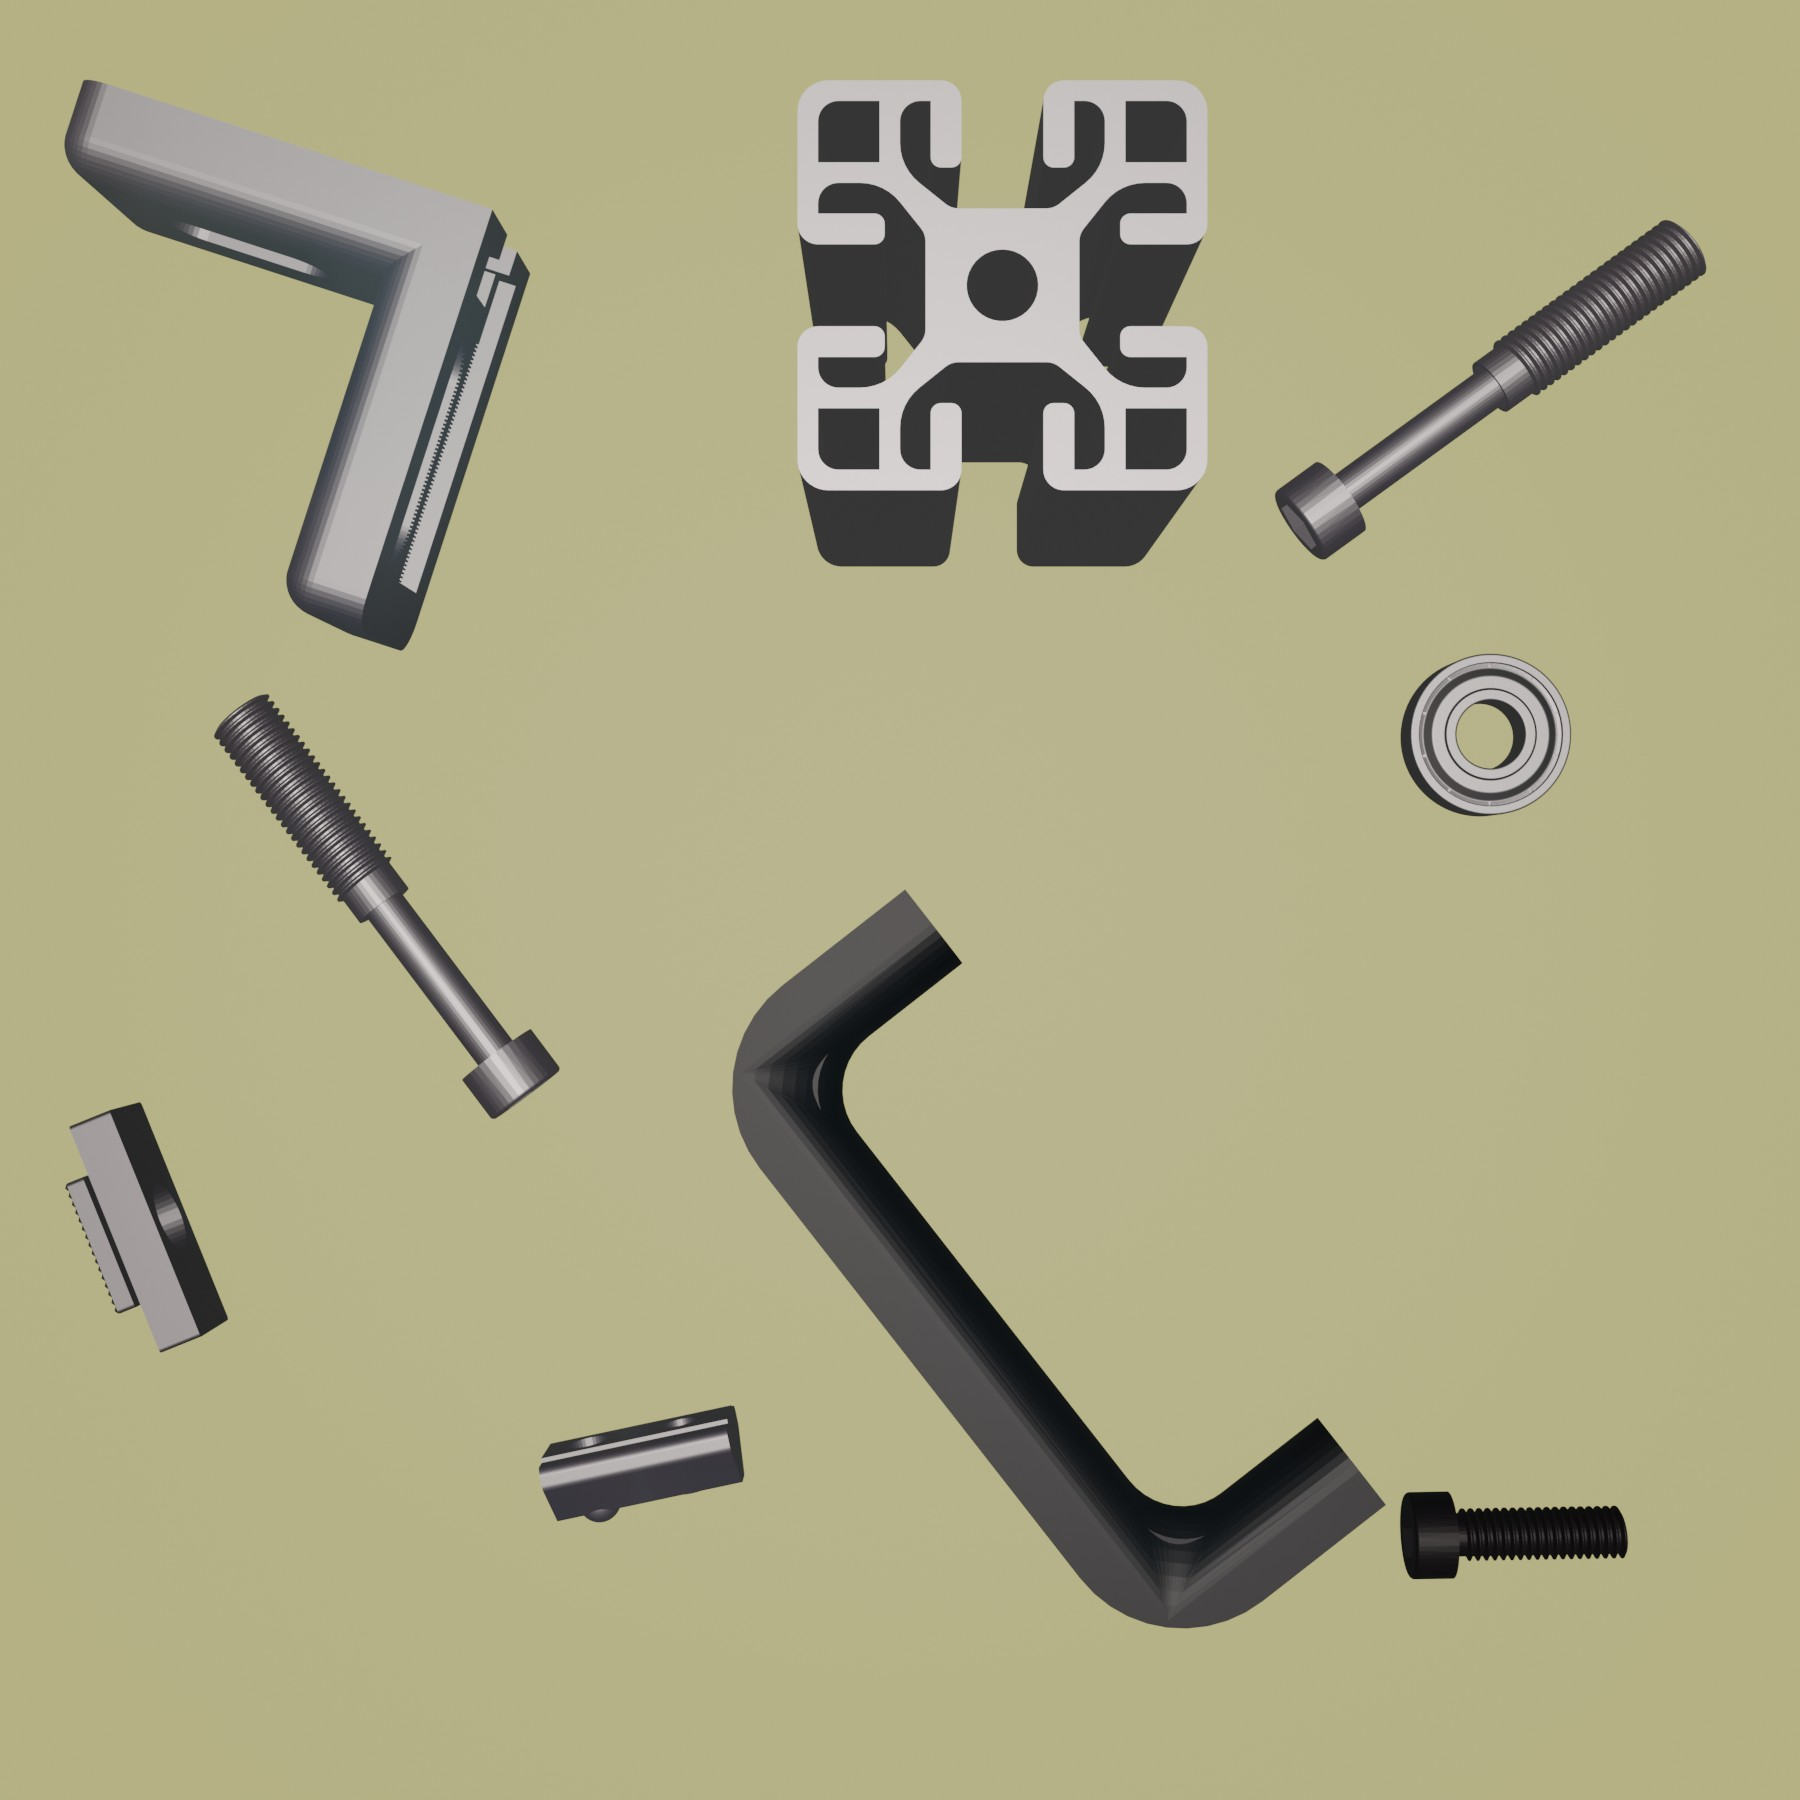Aluminium Extension: (790, 73, 1212, 572)
Ball Bearing: (1398, 649, 1574, 819)
Multiwinkel: (61, 74, 531, 653)
Pull Handle: (729, 887, 1388, 1630)
Shoulder Socket Head Cap Screw: (208, 687, 565, 1119), (1271, 216, 1713, 560)
Socket Head Cap Screw: (1396, 1488, 1630, 1581)
T Nut Square: (63, 1098, 236, 1353)
T Spring Nut: (537, 1395, 747, 1526)
